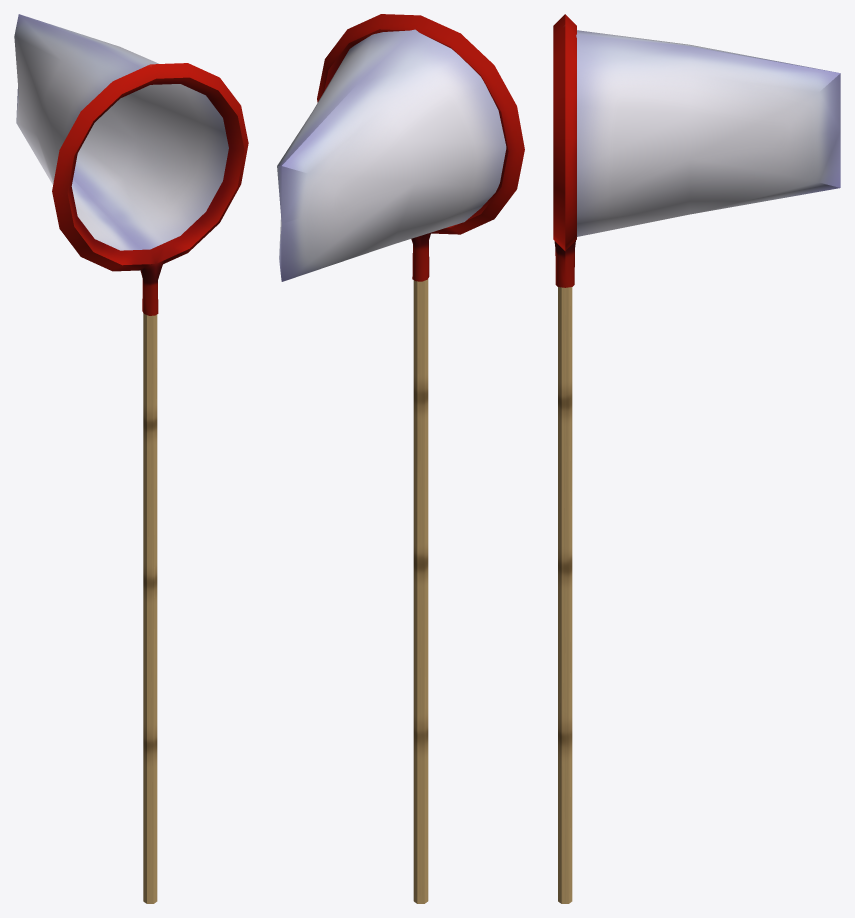
File: NestNet_1.0.fbx
The picture shows the model from 3 angles, left to right: view 1: azimuth 30°, elevation 25°; view 2: azimuth 150°, elevation 25°; view 3: azimuth 270°, elevation 25°; orthographic projection. The views are drawn at different scales.
Parts seen in each view (by area): view 1: Net, NetFrame, Stick; view 2: Net, Stick, NetFrame; view 3: Net, Stick, NetFrame.
Boxes of the visible parts, x1,y1,x2,y2 form: Net: (14,14,228,250); NetFrame: (52,63,248,315); Stick: (143,313,157,903); Net: (277,29,506,281); Stick: (413,279,428,903); NetFrame: (317,14,524,281); Net: (576,30,840,236); Stick: (558,287,572,903); NetFrame: (553,14,576,287).
Size of the model in its own units: 40.95 by 167 by 49.51.
